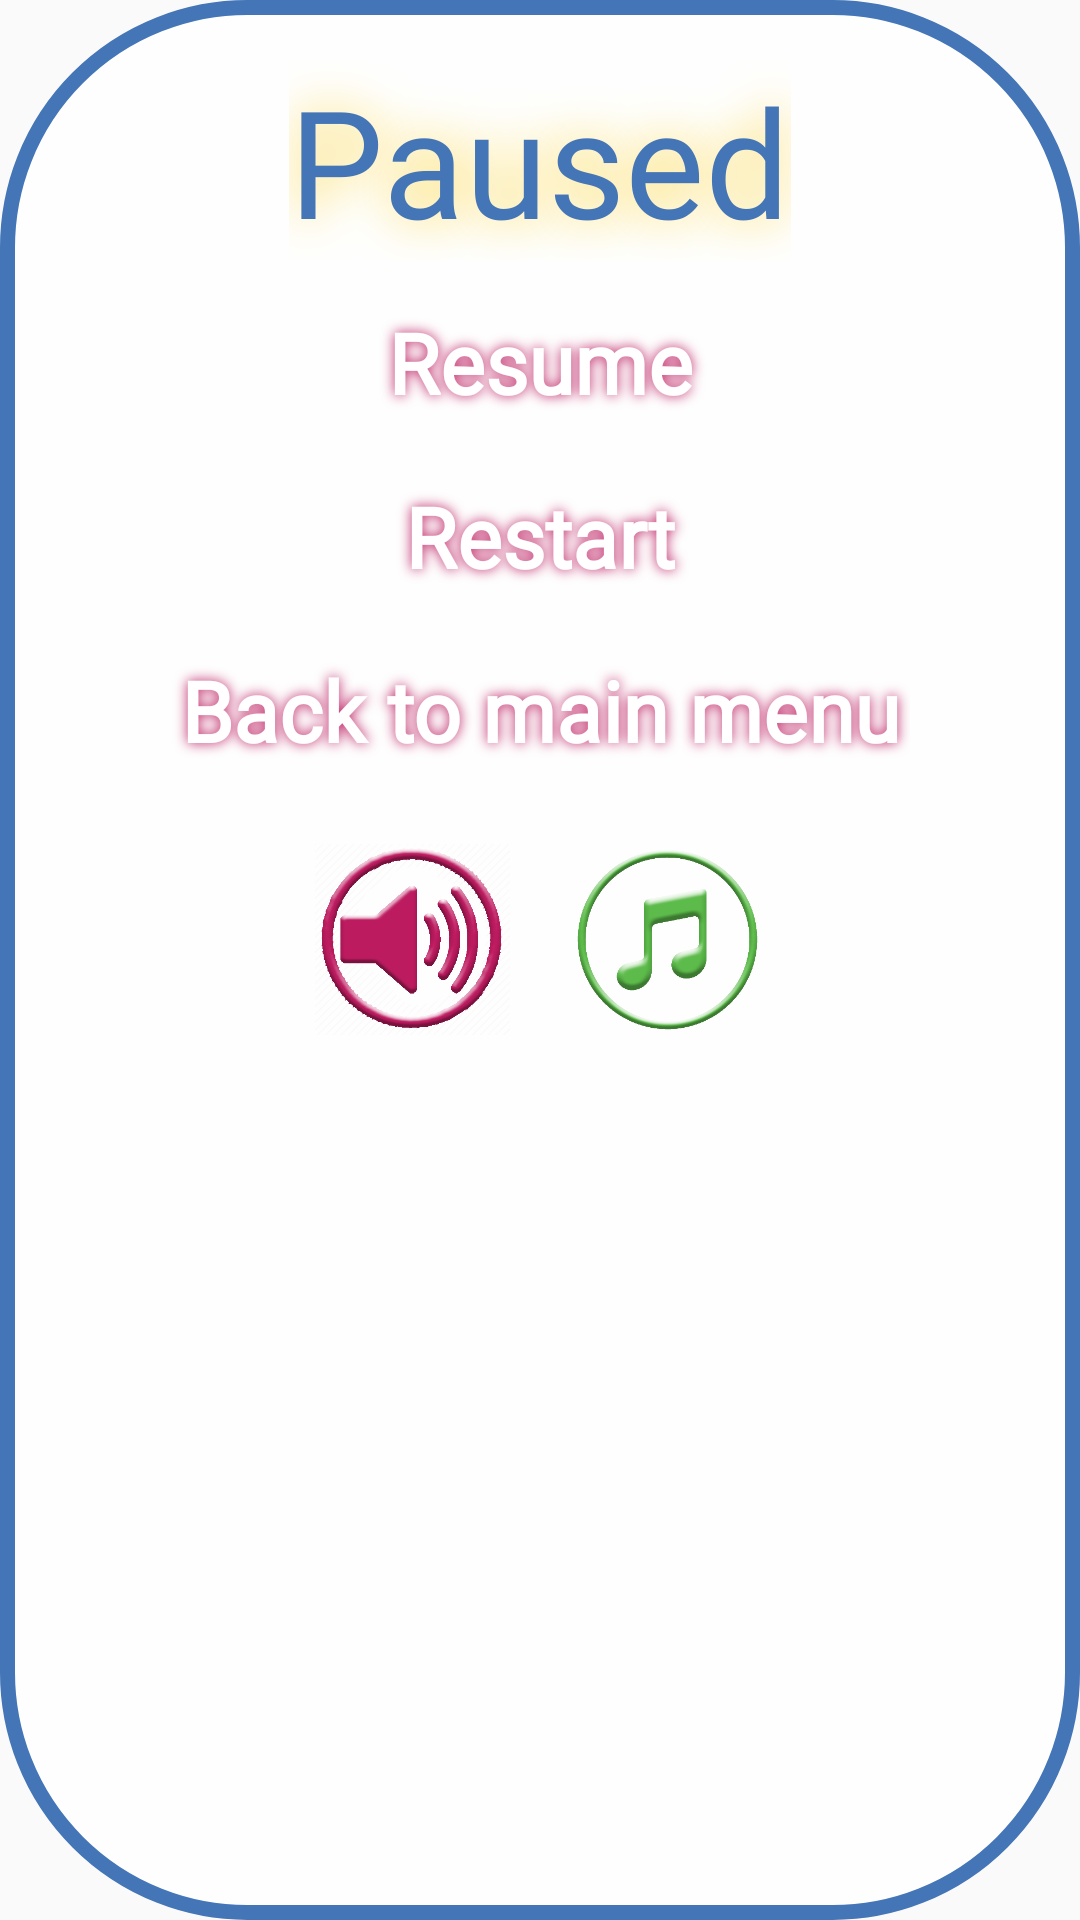

Locate icon controls on the screen. Image size 1080 x 1920, boxes as Rect(x1, y1, x2, y2).
music on: Rect(577, 851, 758, 1030)
sound on: Rect(321, 850, 502, 1028)
